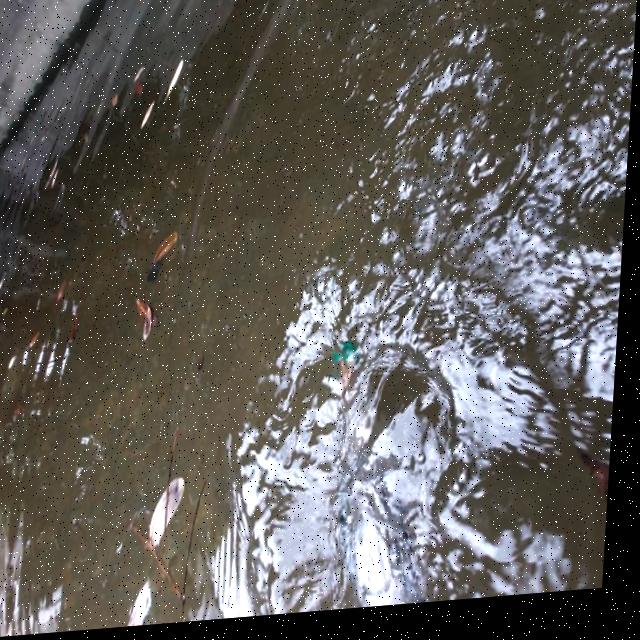waterbottle: (300, 336, 459, 619)
